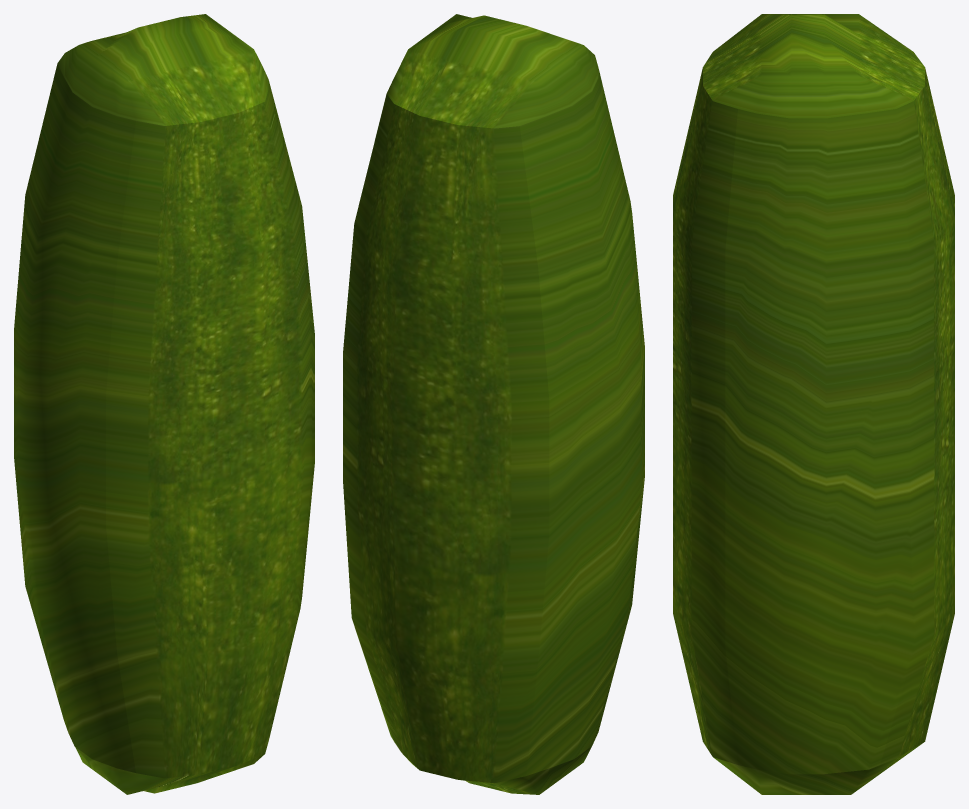
Rendered from cucumberModel.fbx.
3 views of the same model, side by side, from view 1: azimuth 30°, elevation 25°; view 2: azimuth 150°, elevation 25°; view 3: azimuth 270°, elevation 25° (orthographic).
Visible parts, largest first — view 1: pCube1; view 2: pCube1; view 3: pCube1.
Part boxes in pixels (left/top/right/bottom): pCube1: left=14, top=14, right=314, bottom=794; pCube1: left=343, top=14, right=644, bottom=794; pCube1: left=673, top=14, right=954, bottom=794.
Size of the model in its own units: 1.02 by 2.78 by 0.9368.
Materials: 1 (1 with a texture image).
